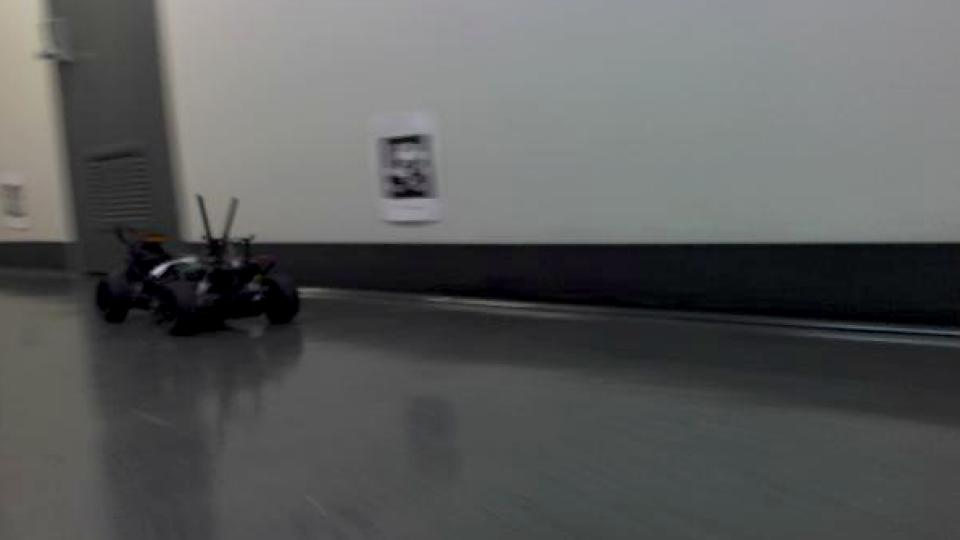car: (94, 191, 304, 339)
